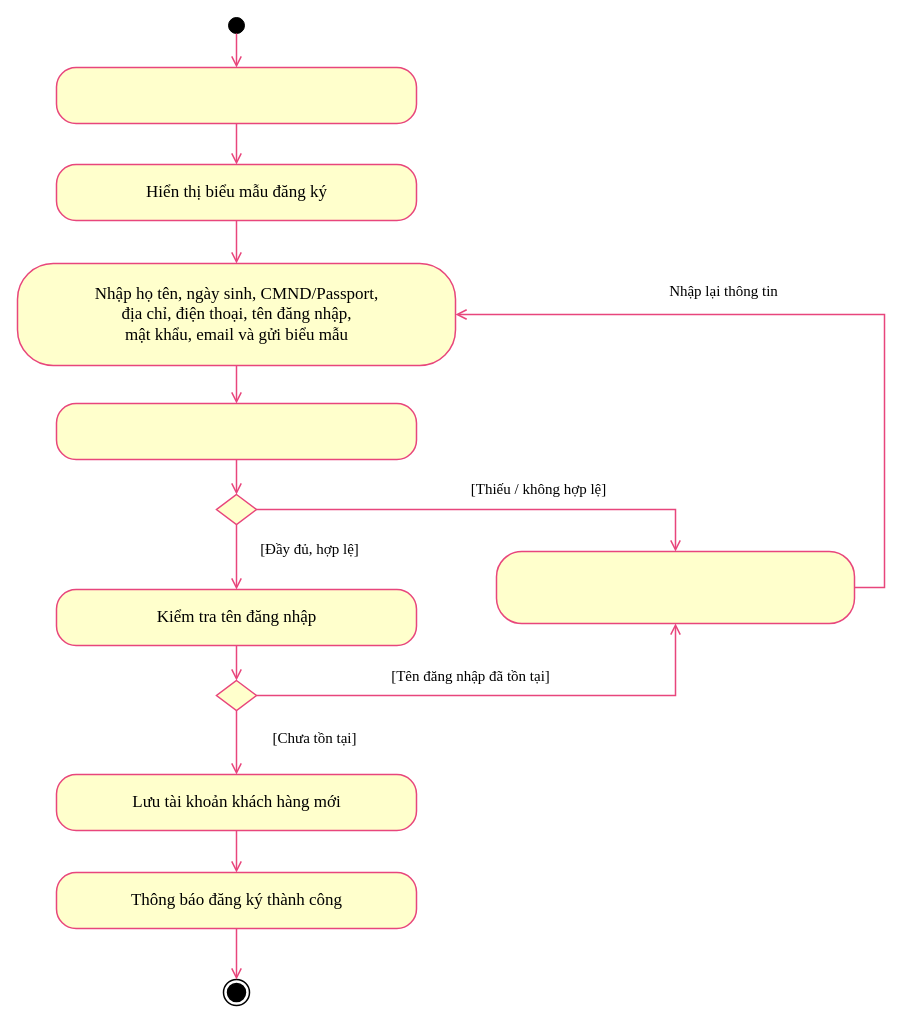
The diagram is 913 pixels wide and 1024 high, and some of its shapes have lost their labels. Here are the shapes that lost their labels. From the top down, the centre of each, then its label:
At point (236, 95): "Chọn chức năng đăng ký tài khoản".
At point (236, 431): "Kiểm tra dữ liệu bắt buộc".
At point (675, 587): "Thông báo lỗi; yêu cầu nhập lại".
